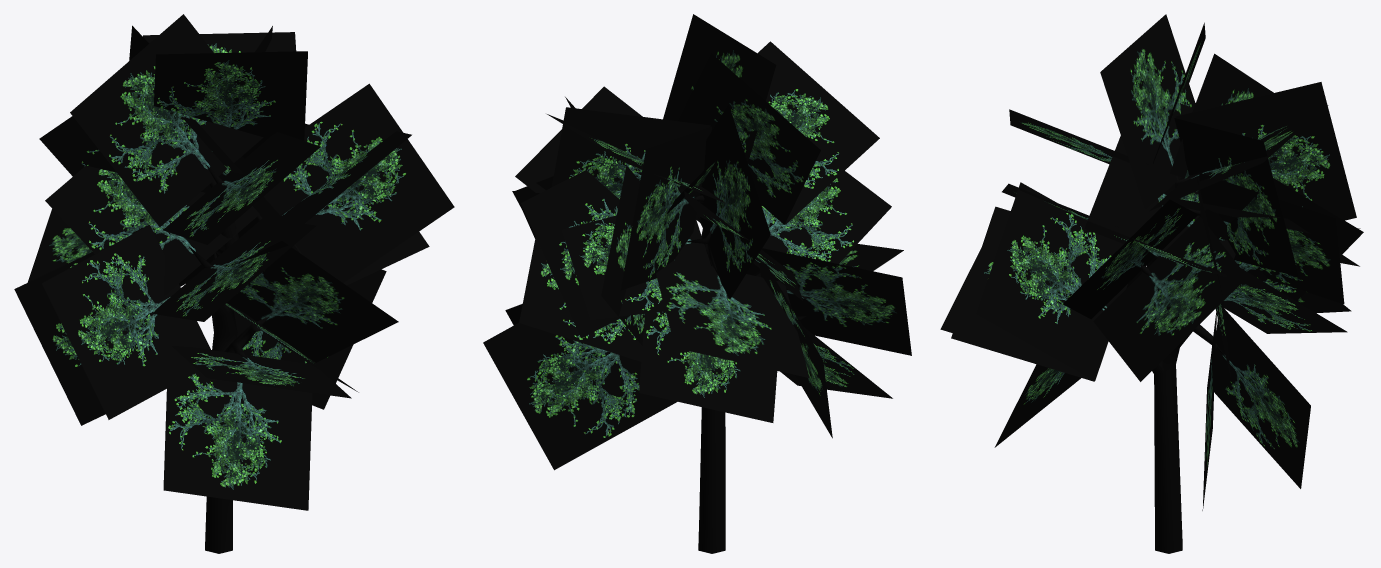
Rendered from tree62.glb.
The picture shows the model from 3 angles, left to right: view 1: azimuth 30°, elevation 25°; view 2: azimuth 150°, elevation 25°; view 3: azimuth 270°, elevation 25°; orthographic projection. The views are drawn at different scales.
Bounding box in the file's own units: 5.2 × 6.81 × 5.09.
Materials: 2 (1 with a texture image).
